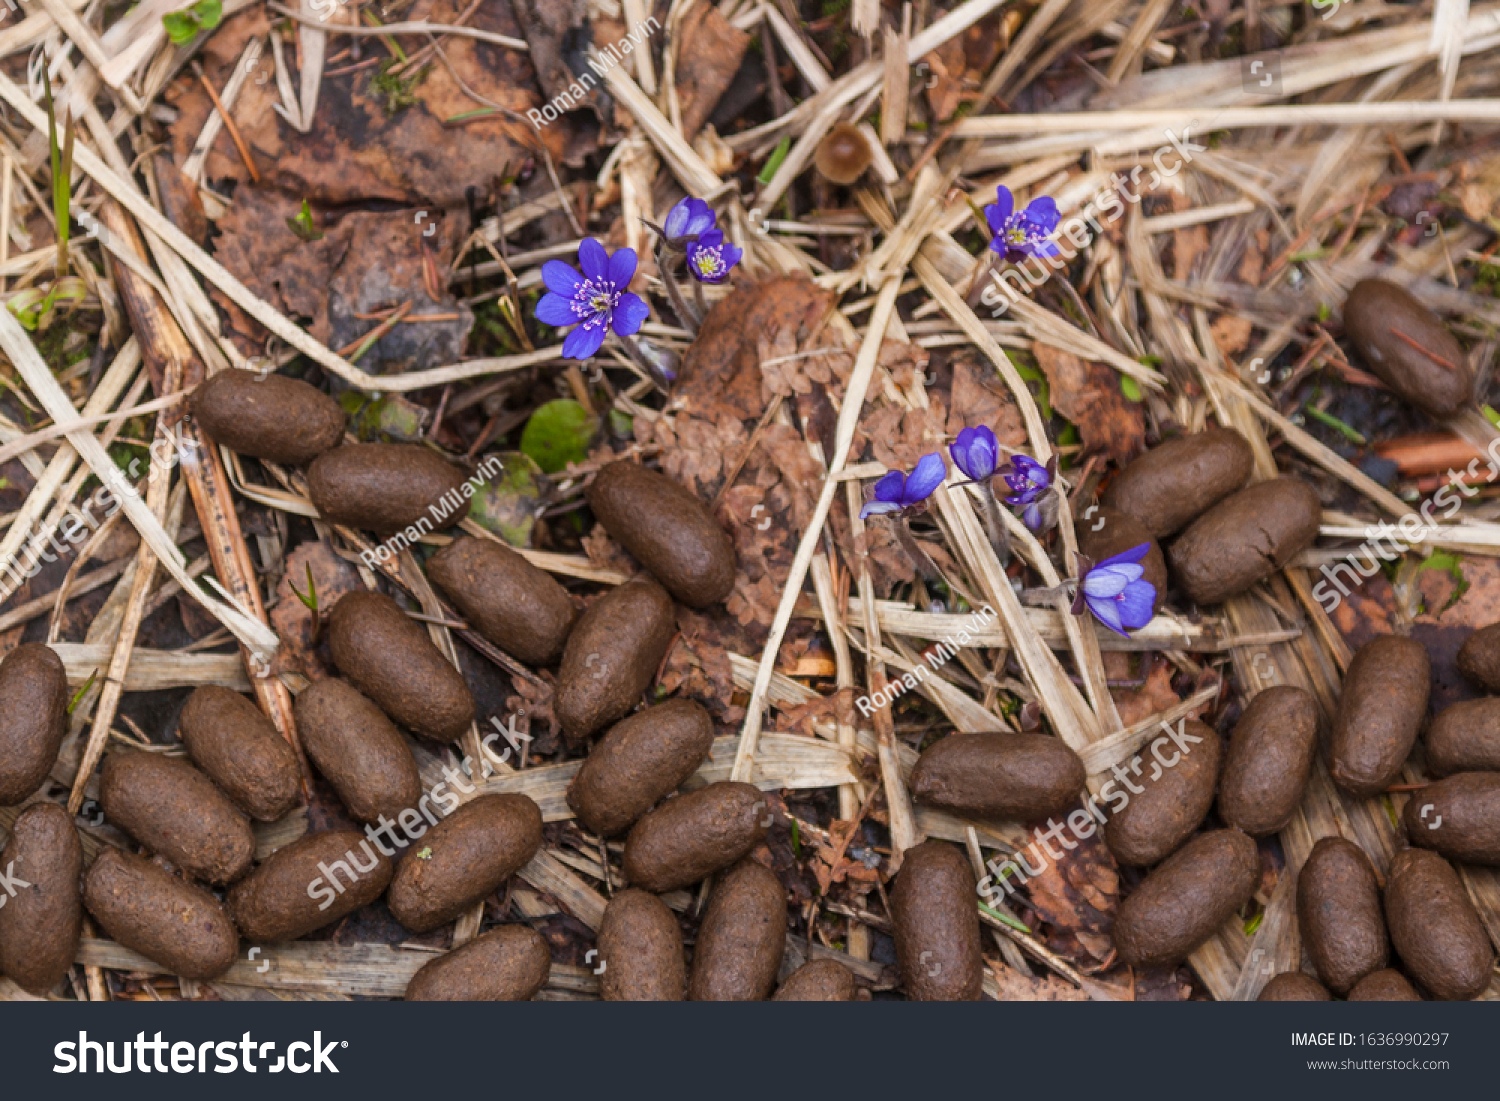Elk: (158, 407, 917, 950), (1005, 508, 1464, 973)
